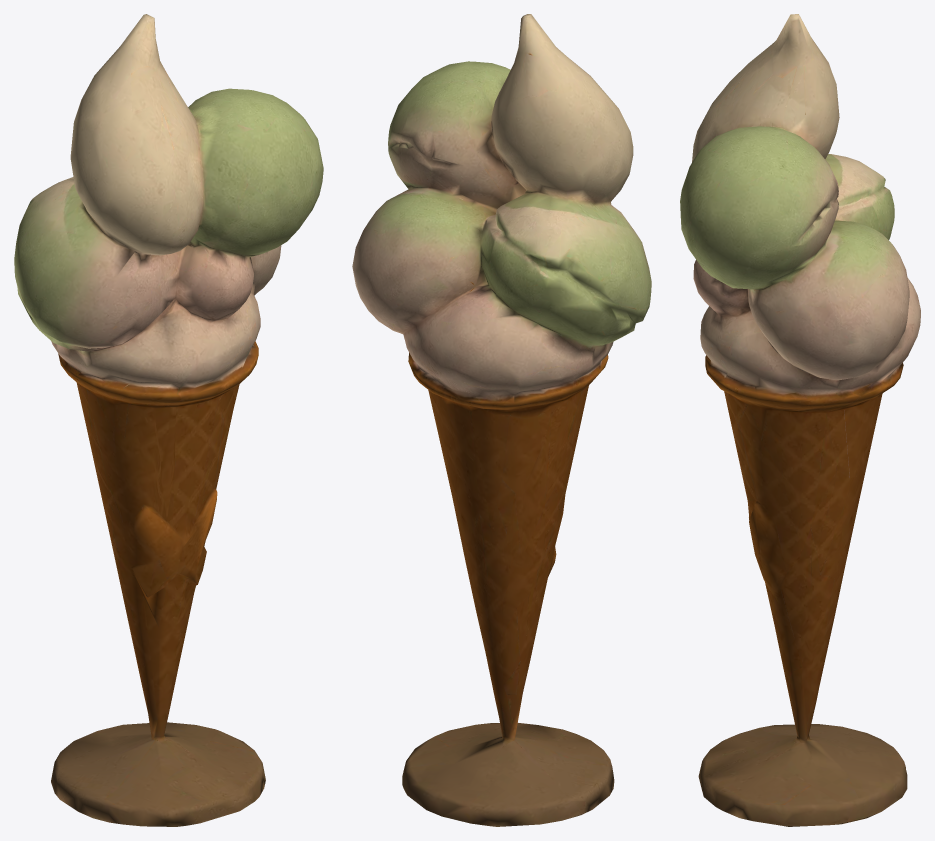
The model's file is token-gelato.glb.
3 renders of one model, left to right at view 1: azimuth 30°, elevation 25°; view 2: azimuth 150°, elevation 25°; view 3: azimuth 270°, elevation 25°, orthographic.
Size of the model in its own units: 0.6804 by 1.9 by 0.5437.
Materials: 1 (1 with a texture image).
